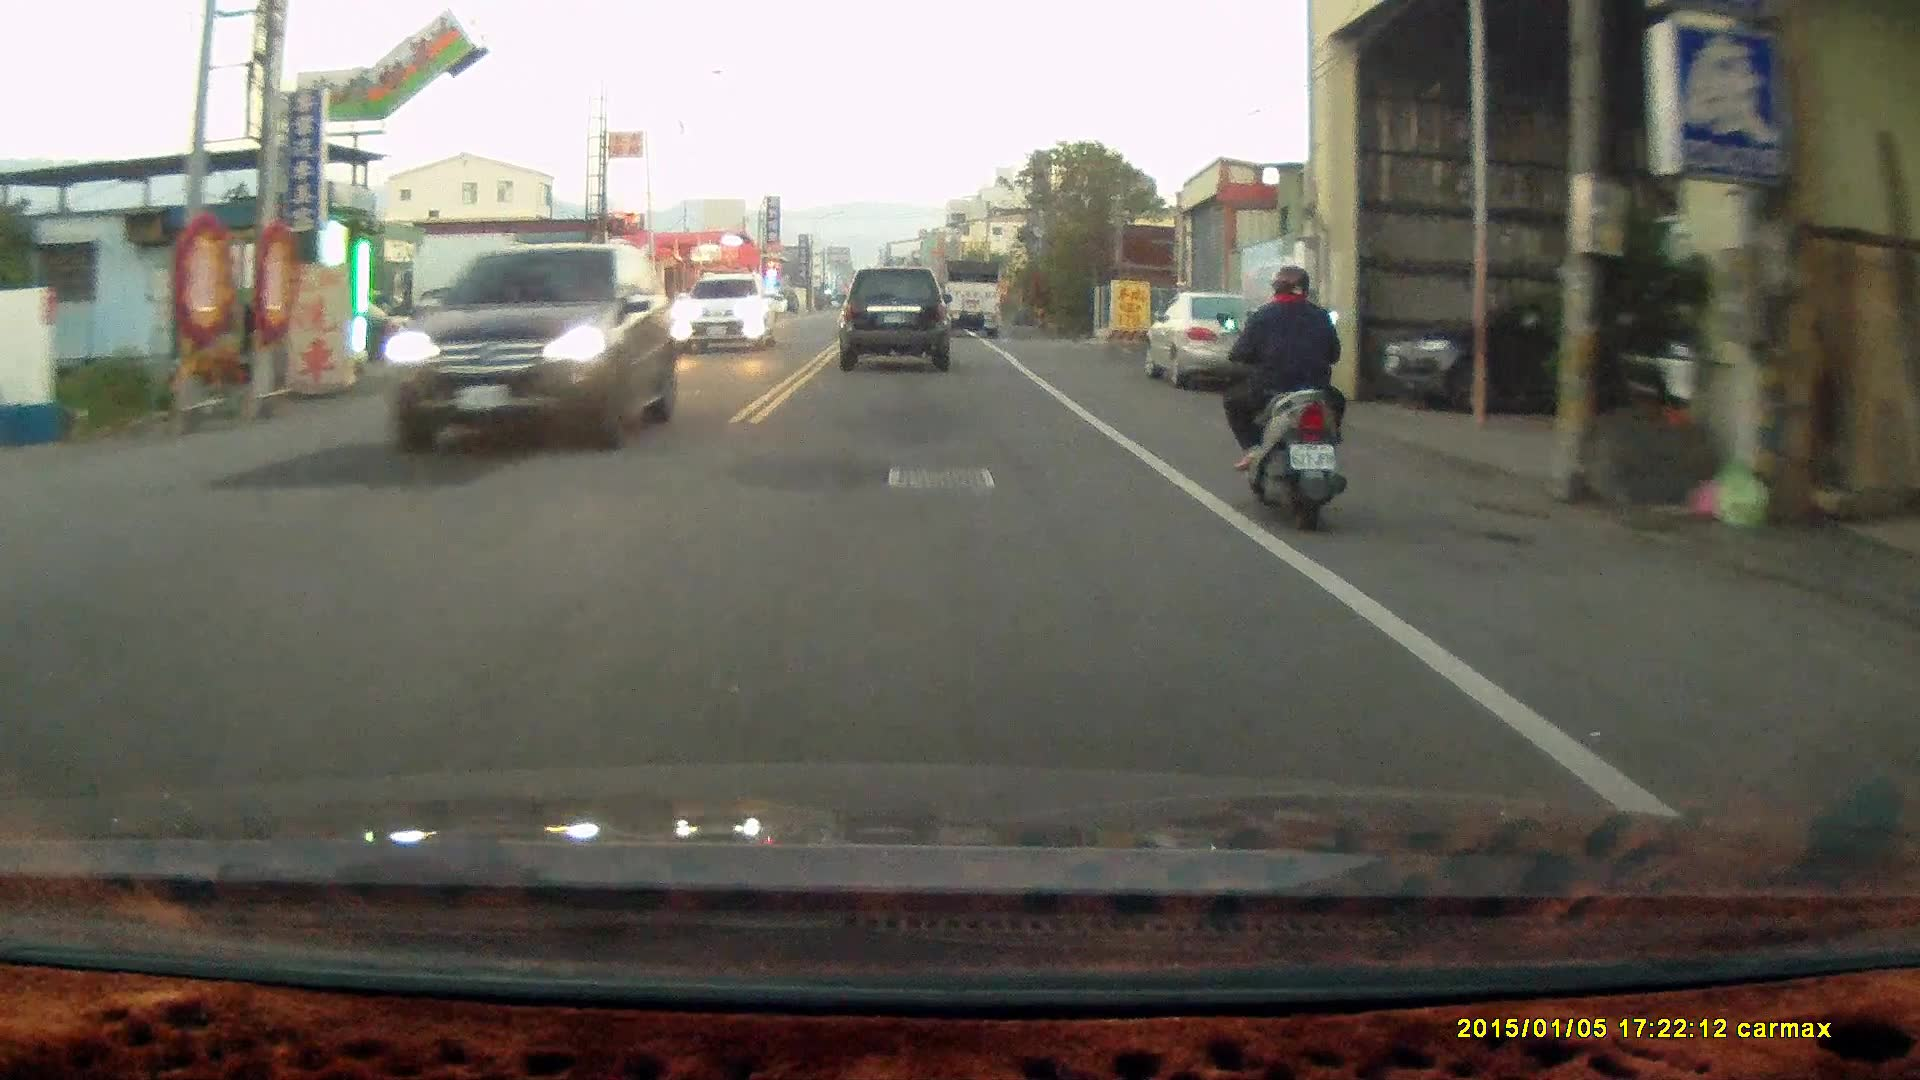rider: (1210, 260, 1347, 531)
vehicle: (386, 242, 678, 450), (1380, 296, 1648, 415), (1146, 290, 1294, 393), (840, 266, 955, 373), (674, 275, 781, 359), (933, 260, 1003, 338)
